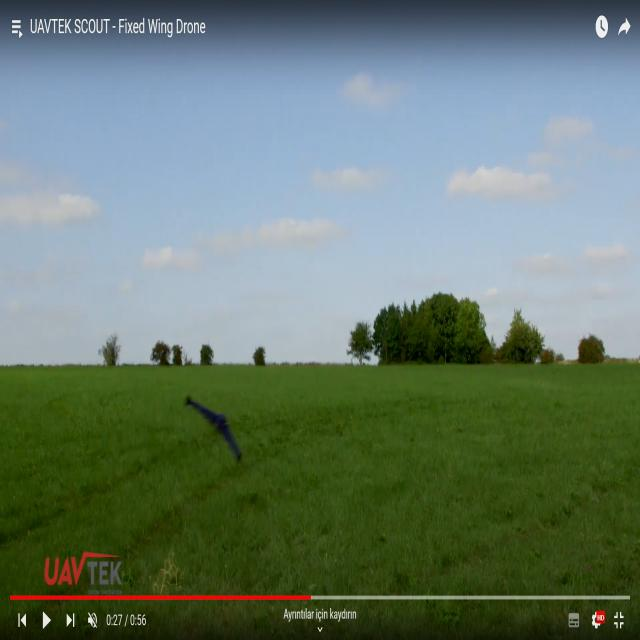iha: (184, 427, 242, 429)
